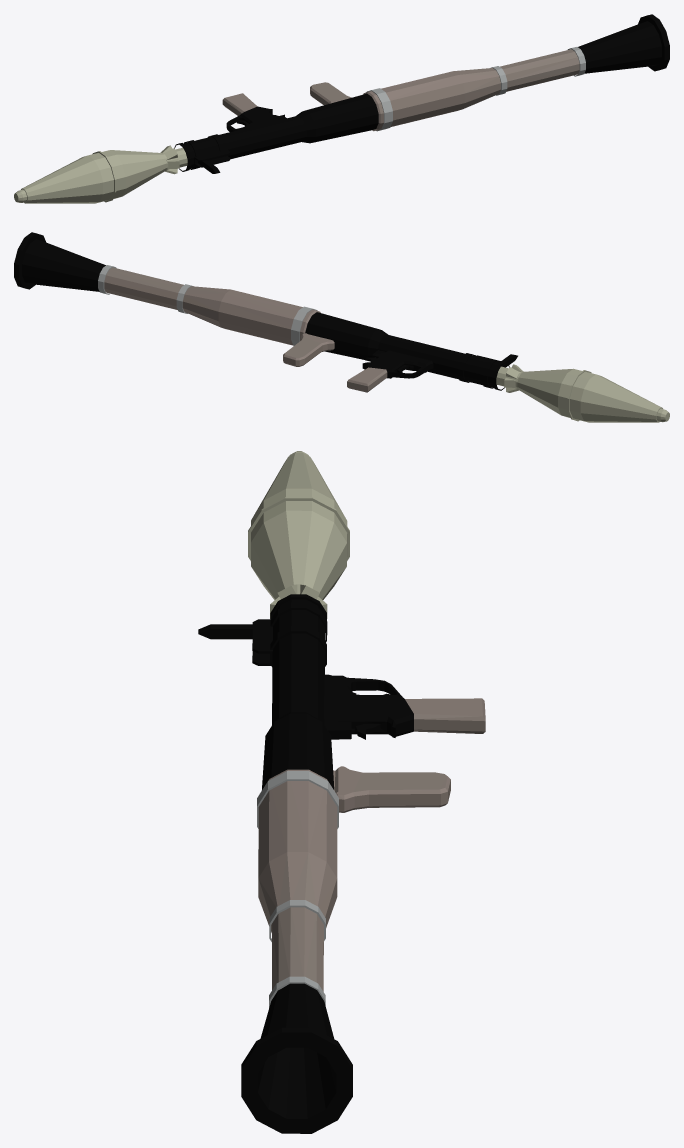
File: w_bazooka.glb
3 views of the same model, one above another, from view 1: azimuth 30°, elevation 25°; view 2: azimuth 150°, elevation 25°; view 3: azimuth 270°, elevation 25° (orthographic). The views are drawn at different scales.
Parts seen in each view (by area): view 1: hull; view 2: hull; view 3: hull.
Part boxes in pixels (x1,y1,x2,y2): hull: (14,14,669,203); hull: (14,232,669,422); hull: (198,451,485,1133).
Size of the model in its own units: 1.4 by 0.1058 by 0.2728.
